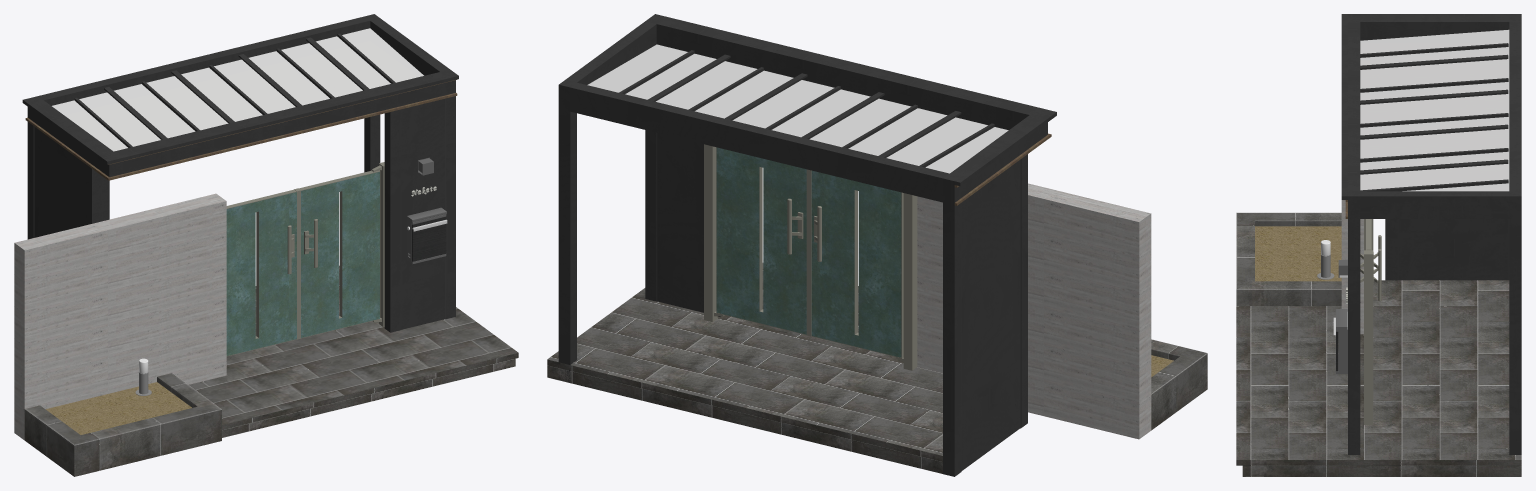
File: HY22_matblack.fbx
3 renders of one model, left to right at view 1: azimuth 30°, elevation 25°; view 2: azimuth 150°, elevation 25°; view 3: azimuth 270°, elevation 25°, orthographic. The views are drawn at different scales.
Parts seen in each view (by area): view 1: HY22_mat black; view 2: HY22_mat black; view 3: HY22_mat black.
Boxes of the visible parts, x1,y1,x2,y2 form: HY22_mat black: [14, 14, 518, 476]; HY22_mat black: [547, 14, 1207, 476]; HY22_mat black: [1236, 14, 1521, 476].
Size of the model in its own units: 440 by 245 by 230.
25 materials, 12 textured.
